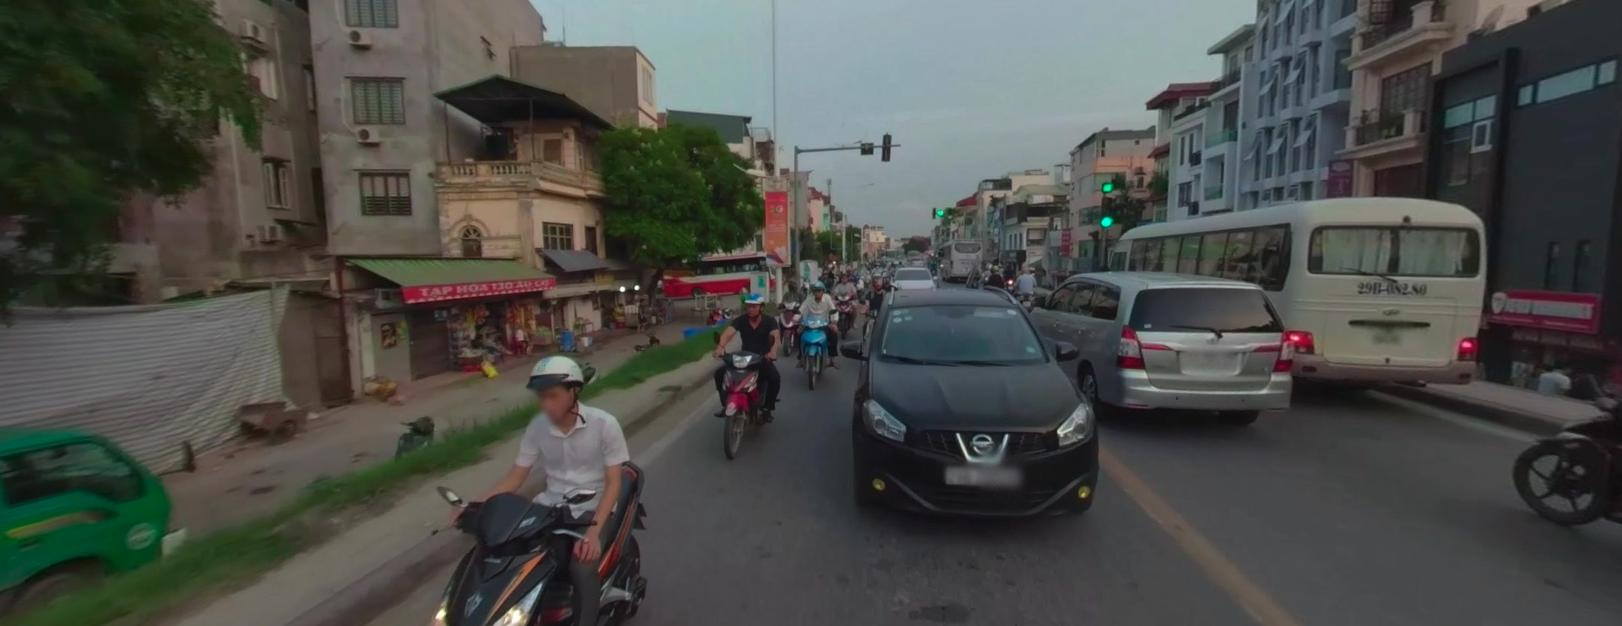Hieu lenh: (902, 290, 1175, 390)
